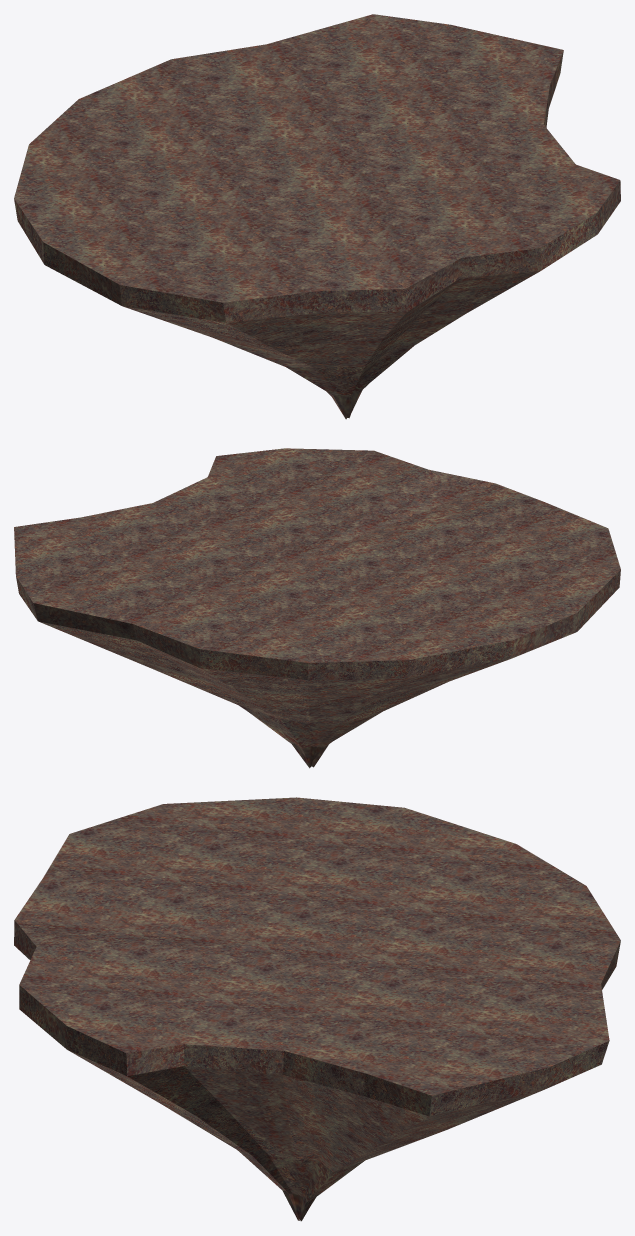
File: island.fbx
The picture shows the model from 3 angles, top to bottom: view 1: azimuth 30°, elevation 25°; view 2: azimuth 150°, elevation 25°; view 3: azimuth 270°, elevation 25°; orthographic projection. The views are drawn at different scales.
Parts seen in each view (by area): view 1: Vert; view 2: Vert; view 3: Vert.
Part boxes in pixels (x1,y1,x2,y2): Vert: (14, 14, 620, 419); Vert: (14, 448, 620, 768); Vert: (14, 797, 620, 1221).
Size of the model in its own units: 1102 by 460 by 939.
